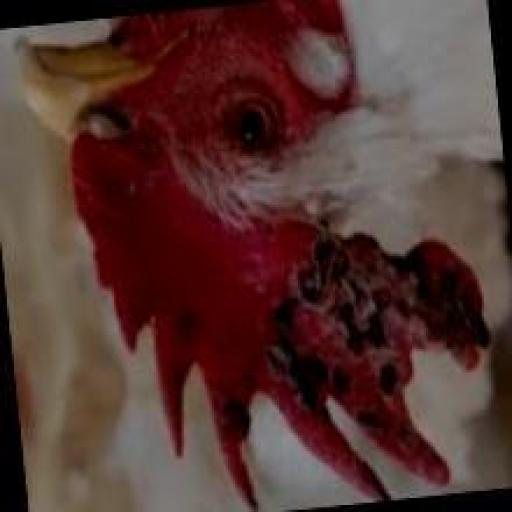disease: (221, 209, 512, 468)
